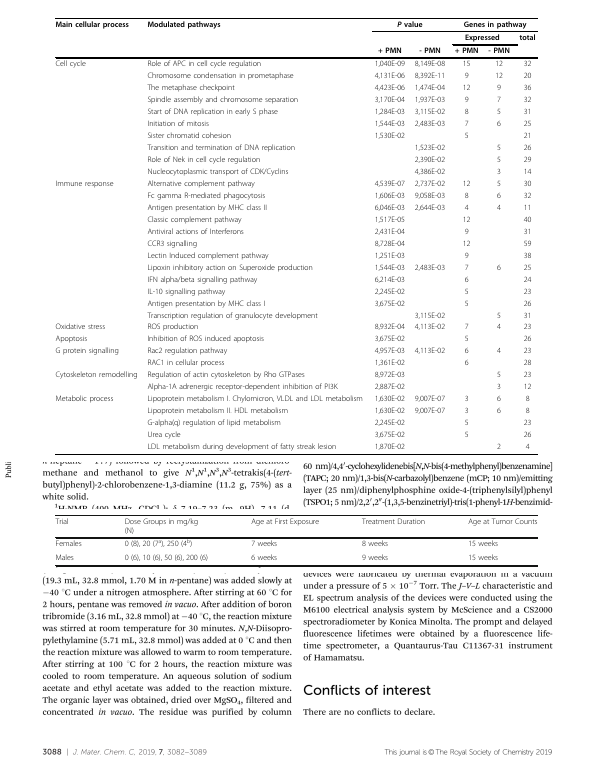borderless: (54, 16, 538, 454), (54, 514, 537, 565)
cell: (146, 394, 364, 404), (146, 382, 339, 392), (146, 442, 337, 452), (146, 370, 306, 380), (146, 311, 319, 320), (146, 95, 299, 105), (146, 263, 314, 272), (146, 143, 296, 153), (146, 167, 289, 177), (146, 406, 289, 416), (146, 418, 282, 428), (124, 518, 199, 536), (146, 72, 295, 81), (146, 107, 279, 117), (146, 203, 268, 213), (146, 191, 266, 201), (146, 155, 261, 165), (146, 251, 269, 260), (146, 179, 256, 189), (146, 299, 266, 308), (146, 335, 265, 344), (146, 60, 262, 69), (146, 275, 258, 284), (146, 215, 242, 225), (146, 83, 236, 93), (146, 227, 245, 236), (146, 131, 232, 141), (54, 370, 139, 380), (124, 554, 209, 564), (124, 538, 193, 550), (146, 346, 228, 356), (146, 358, 225, 368), (146, 287, 226, 296), (55, 20, 130, 29), (146, 20, 221, 29), (54, 346, 120, 356), (146, 119, 210, 129), (467, 518, 538, 527), (250, 518, 320, 527), (54, 179, 114, 189), (54, 394, 114, 404), (361, 518, 426, 527), (463, 20, 527, 29), (146, 323, 199, 332), (146, 239, 198, 248), (54, 323, 106, 332), (464, 33, 501, 43), (146, 430, 182, 440), (374, 83, 406, 93), (414, 83, 446, 93), (374, 95, 406, 105), (414, 95, 446, 105), (374, 107, 406, 117), (414, 107, 446, 117), (374, 119, 406, 129), (414, 119, 446, 129), (374, 131, 406, 141), (414, 143, 446, 153), (414, 155, 446, 165), (414, 167, 446, 177), (374, 179, 406, 189), (414, 179, 446, 189), (374, 191, 406, 201), (414, 191, 446, 201), (374, 203, 406, 213), (414, 203, 446, 213), (374, 215, 406, 225), (374, 346, 406, 356), (414, 346, 446, 356), (374, 358, 406, 368), (374, 370, 406, 380), (374, 382, 406, 392), (374, 394, 406, 404), (414, 394, 446, 404), (374, 406, 406, 416), (414, 406, 446, 416), (374, 418, 406, 428), (374, 430, 406, 440), (374, 442, 406, 452), (467, 540, 499, 550), (467, 554, 499, 564), (54, 335, 88, 344), (54, 60, 87, 69), (374, 60, 406, 69), (414, 60, 446, 69), (374, 72, 406, 81), (414, 72, 446, 81), (374, 227, 406, 236), (374, 239, 406, 248), (374, 251, 406, 260), (374, 263, 406, 272), (414, 263, 446, 272), (374, 275, 406, 284), (374, 287, 406, 296), (374, 299, 406, 308), (414, 311, 446, 320), (374, 323, 406, 332), (414, 323, 446, 332), (374, 335, 406, 344), (250, 540, 278, 550), (361, 540, 389, 550), (250, 554, 278, 564), (361, 554, 389, 564), (55, 540, 82, 550), (377, 46, 403, 56), (454, 46, 479, 56), (396, 20, 423, 29), (487, 46, 511, 56), (418, 46, 441, 56), (54, 554, 75, 564), (519, 33, 536, 43), (55, 518, 69, 527), (494, 60, 504, 69), (494, 72, 504, 81), (462, 83, 471, 93), (523, 83, 532, 93), (523, 95, 532, 105), (523, 107, 532, 117), (523, 119, 532, 129), (523, 131, 532, 141), (523, 143, 532, 153), (523, 155, 532, 165), (523, 167, 532, 177), (462, 179, 471, 189), (523, 179, 532, 189), (523, 191, 532, 201), (523, 203, 532, 213), (462, 215, 471, 225), (523, 215, 532, 225), (523, 346, 532, 356), (523, 358, 532, 368), (523, 370, 532, 380), (523, 382, 532, 392), (523, 418, 532, 428), (523, 430, 532, 440), (462, 60, 471, 69), (523, 60, 532, 69), (523, 72, 532, 81), (523, 227, 532, 236), (462, 239, 471, 248), (523, 239, 532, 248), (523, 251, 532, 260), (523, 263, 532, 272), (523, 275, 532, 284), (523, 287, 532, 296), (523, 299, 532, 308), (523, 311, 532, 320), (523, 323, 532, 332), (523, 335, 532, 344), (496, 83, 502, 93), (496, 95, 502, 105), (496, 107, 502, 117), (496, 119, 502, 129), (496, 143, 502, 153), (496, 155, 502, 165), (496, 167, 502, 177), (496, 179, 502, 189), (496, 191, 502, 201), (496, 203, 502, 213), (496, 346, 502, 356), (496, 370, 502, 380), (496, 382, 502, 392), (496, 394, 502, 404), (496, 406, 502, 416), (496, 442, 502, 452), (496, 263, 502, 272), (496, 311, 502, 320), (496, 323, 502, 332), (464, 95, 469, 105), (464, 107, 469, 117), (464, 119, 469, 129), (464, 131, 469, 141), (464, 191, 469, 201), (464, 203, 469, 213), (464, 346, 469, 356), (464, 358, 469, 368), (464, 394, 469, 404), (525, 394, 530, 404), (464, 406, 469, 416), (525, 406, 530, 416), (464, 418, 469, 428), (464, 430, 469, 440), (525, 442, 530, 452), (464, 72, 469, 81), (464, 227, 469, 236), (464, 251, 469, 260), (464, 263, 469, 272), (464, 275, 469, 284), (464, 287, 469, 296), (464, 299, 469, 308), (464, 323, 469, 332), (464, 335, 469, 344)
